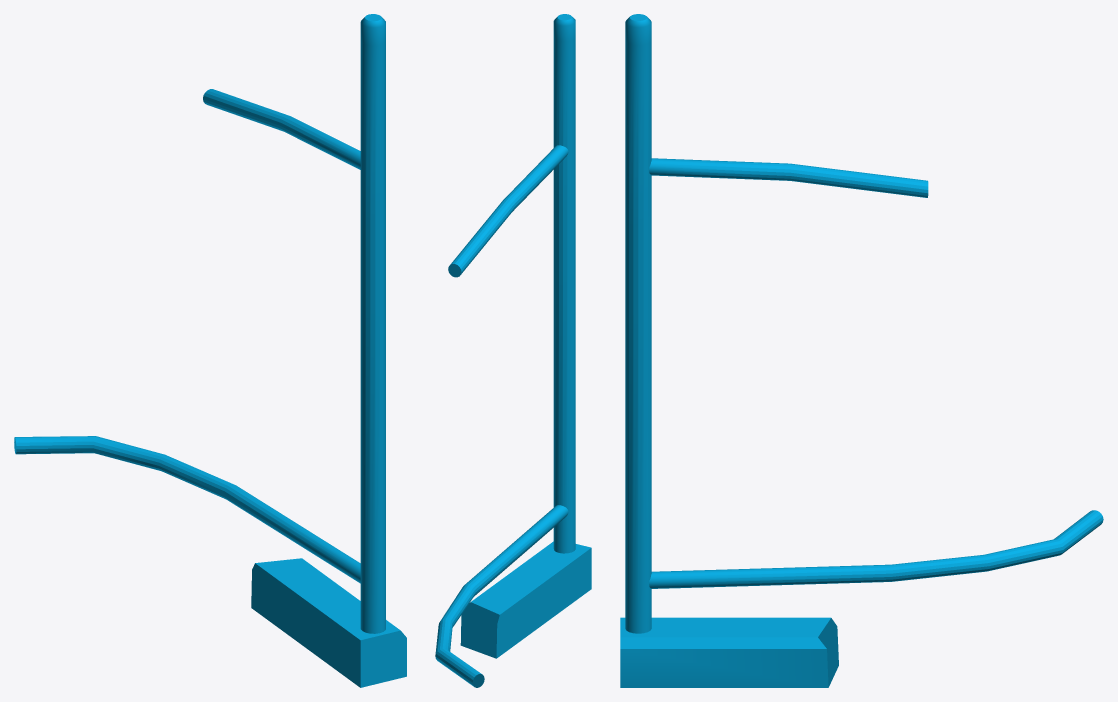
The model's file is Fence_03_Break_02_Lod0.fbx.
The picture shows the model from 3 angles, left to right: view 1: azimuth 30°, elevation 25°; view 2: azimuth 150°, elevation 25°; view 3: azimuth 270°, elevation 25°; orthographic projection. The views are drawn at different scales.
Parts seen in each view (by area): view 1: Fence_03_Break_02_Lod0; view 2: Fence_03_Break_02_Lod0; view 3: Fence_03_Break_02_Lod0.
Part boxes in pixels (left/top/right/bottom): Fence_03_Break_02_Lod0: left=14, top=14, right=406, bottom=687; Fence_03_Break_02_Lod0: left=435, top=14, right=591, bottom=687; Fence_03_Break_02_Lod0: left=620, top=14, right=1103, bottom=687.
Bounding box in the file's own units: 90.25 × 362 × 241.
